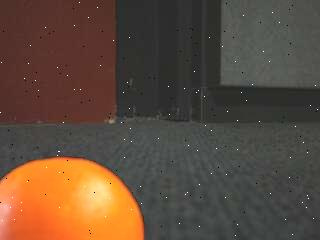Orange: (0, 157, 145, 240)
